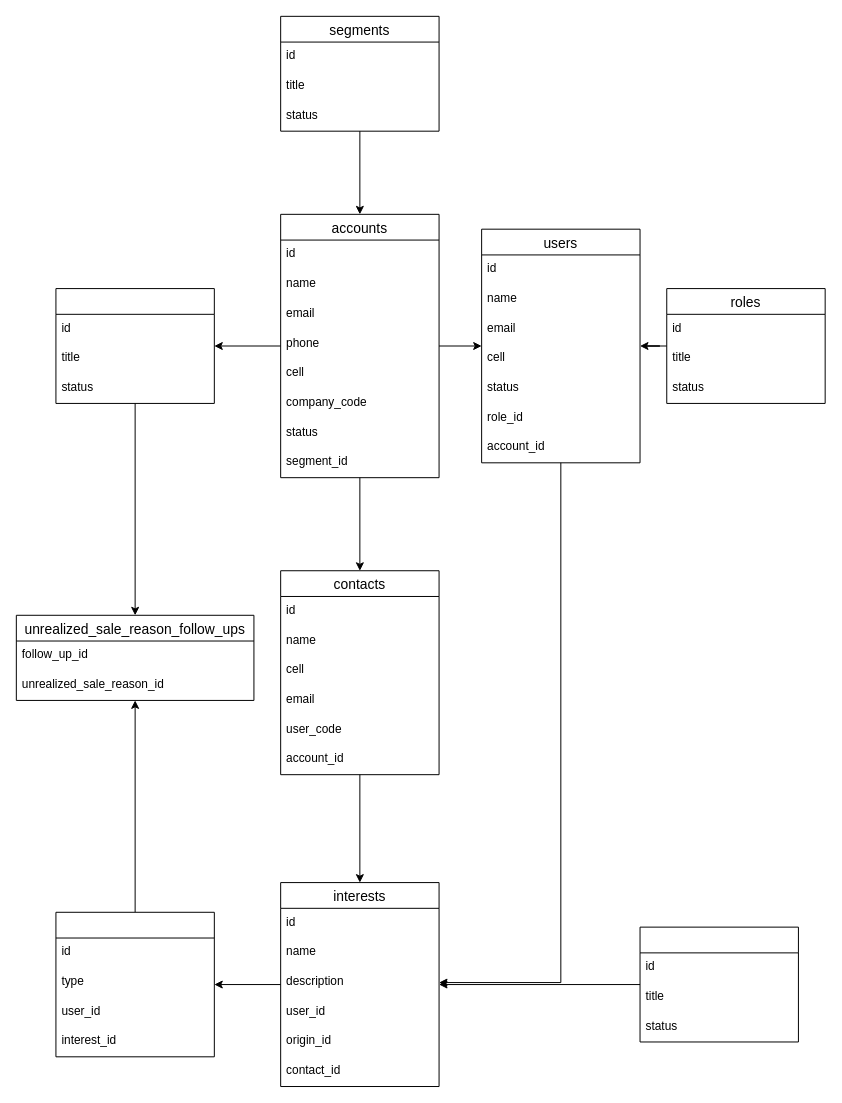
Some shapes in this 842 by 1103 pixel diagram are drawn without their labels. The shapes that lost their labels are listed below. From the top down, each one's box as (x1, y1, x2, y2) in pixels, then its label:
(55, 288, 214, 403): unrealized_sale_reasons
(55, 911, 214, 1057): follow_ups
(639, 926, 798, 1042): origins
